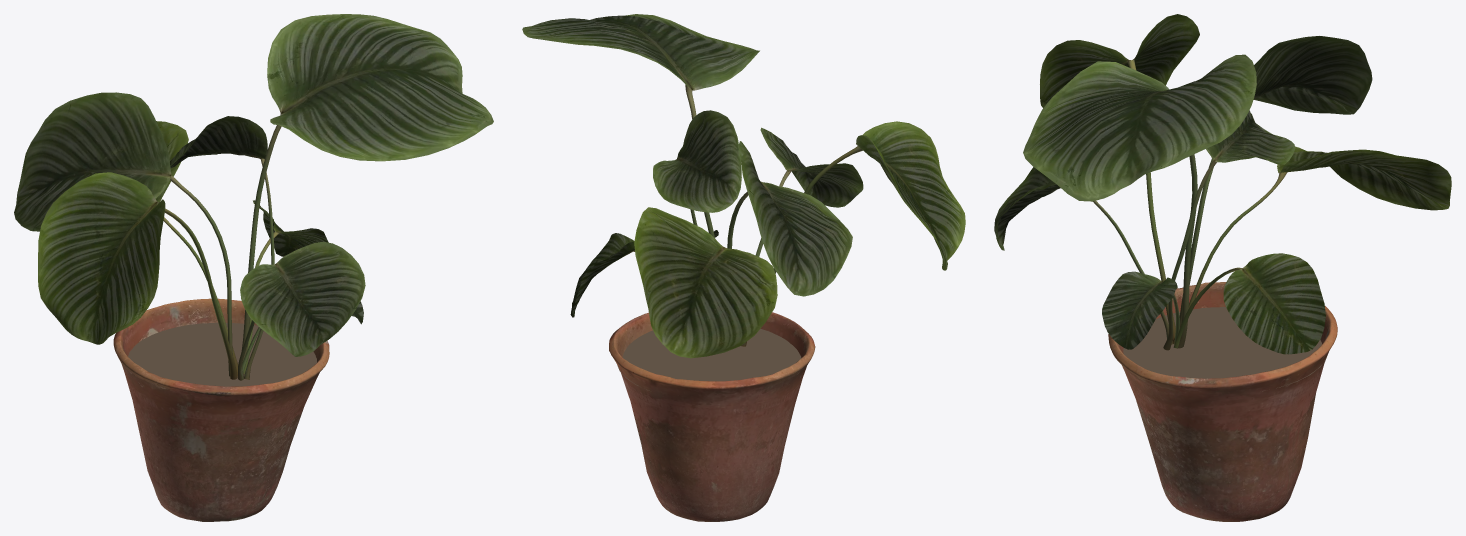
Rendered from ph-calathea.glb.
3 views of the same model, side by side, from view 1: azimuth 30°, elevation 25°; view 2: azimuth 150°, elevation 25°; view 3: azimuth 270°, elevation 25° (orthographic). The views are drawn at different scales.
Parts seen in each view (by area): view 1: calathea_orbifolia_01_a, planter_pot_clay, soil; view 2: calathea_orbifolia_01_a, planter_pot_clay, soil; view 3: calathea_orbifolia_01_a, planter_pot_clay, soil.
Part boxes in pixels (x1,y1,x2,y2): calathea_orbifolia_01_a: (14,14,493,380); planter_pot_clay: (113,298,329,521); soil: (128,322,316,386); calathea_orbifolia_01_a: (522,14,965,358); planter_pot_clay: (609,312,815,521); soil: (617,328,801,390); calathea_orbifolia_01_a: (994,14,1451,354); planter_pot_clay: (1108,282,1337,521); soil: (1123,307,1326,391).
Size of the model in its own units: 0.6006 by 0.6162 by 0.5257.
Materials: 3 (2 with a texture image).
